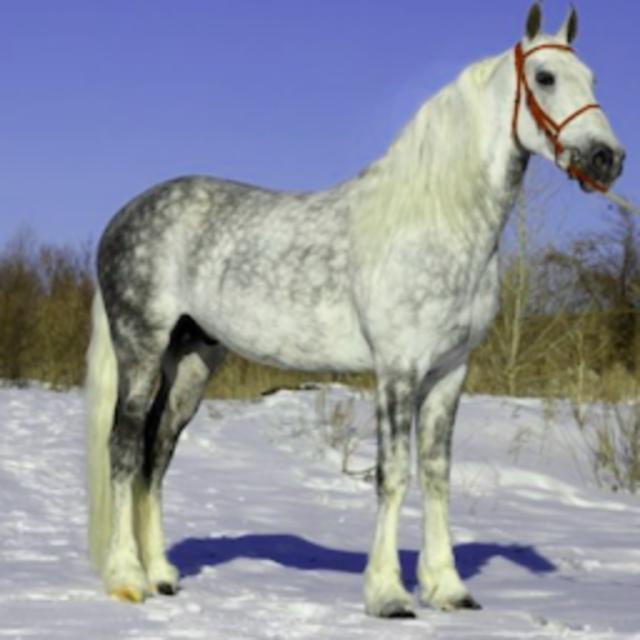Horse: (73, 0, 633, 622)
